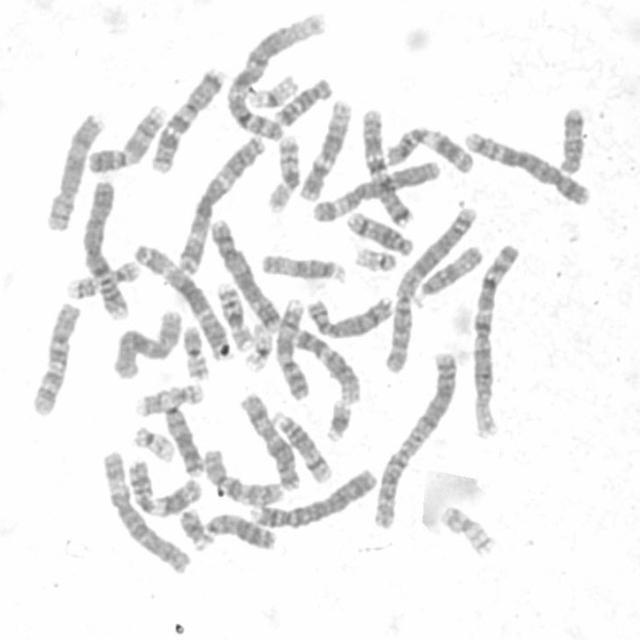A1: (224, 8, 332, 143), (469, 242, 522, 444)
A2: (368, 348, 460, 534), (384, 202, 479, 375)
A3: (176, 133, 265, 280), (129, 241, 233, 366)
B4: (246, 465, 382, 533), (81, 180, 132, 323)
B5: (463, 130, 593, 210), (208, 219, 284, 333)
C10: (32, 300, 82, 419), (202, 446, 287, 507)
C11: (380, 124, 483, 176), (126, 459, 204, 521)
C12: (297, 94, 354, 203), (290, 332, 364, 408)
C6: (100, 451, 194, 574), (310, 156, 442, 224)
C7: (148, 66, 232, 177), (358, 109, 417, 230)
C8: (46, 112, 108, 234), (307, 293, 397, 342)
C9: (82, 107, 166, 177), (275, 296, 314, 402)
D13: (161, 404, 208, 479), (195, 512, 278, 554)
D14: (271, 413, 335, 488), (344, 210, 414, 259)
D15: (416, 243, 484, 305), (259, 252, 347, 285)
E16: (266, 134, 302, 216), (216, 282, 254, 354)
E17: (64, 260, 142, 301), (133, 383, 206, 419)
E18: (273, 78, 333, 128), (556, 107, 587, 175)
F19: (245, 72, 300, 112), (246, 320, 273, 375)
F20: (438, 503, 500, 561), (180, 322, 212, 383)
G21: (176, 510, 216, 553), (326, 399, 352, 442)
G22: (129, 426, 176, 464), (353, 246, 396, 275)
X: (238, 392, 302, 493), (109, 308, 183, 382)
